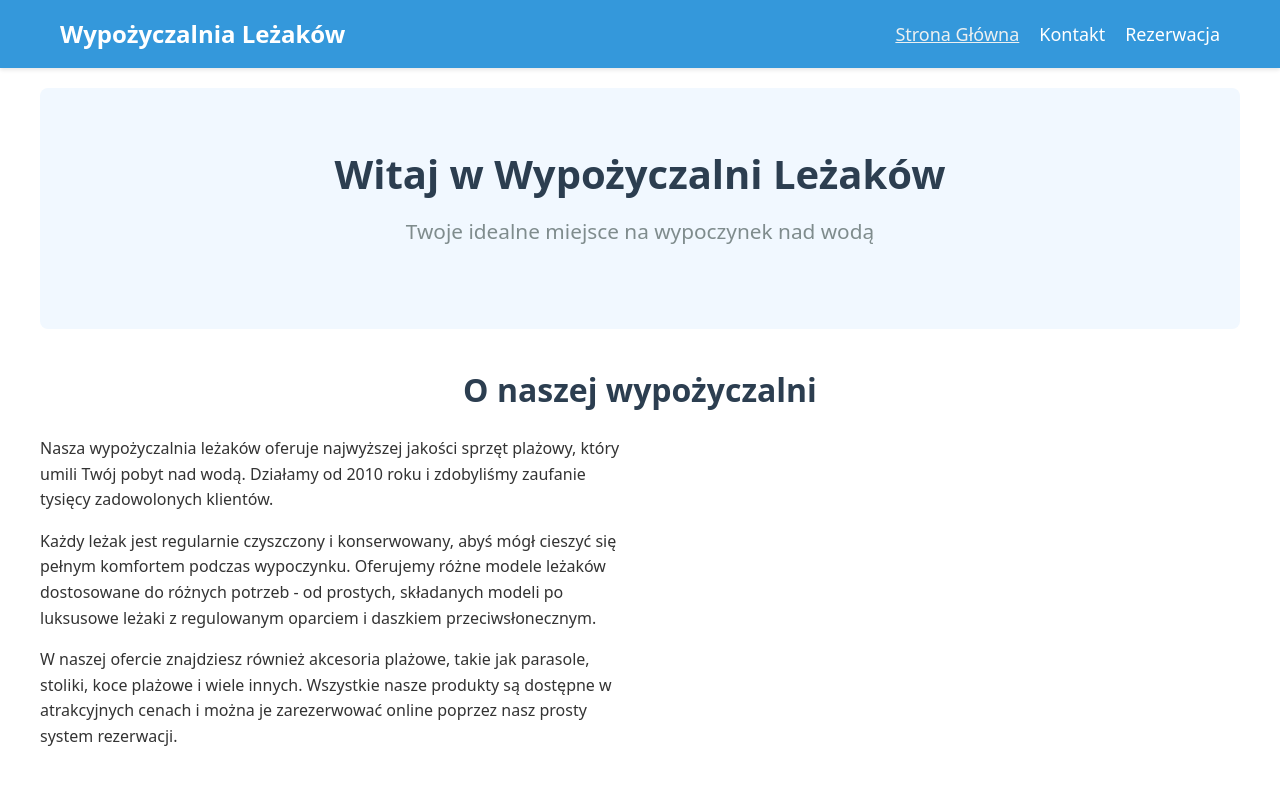
it: Navigation › should navigate to reservation page from menu
Note: Załóżmy, że masz link z tekstem "Rezerwacje"
Click the link with test id "nav-reservation" at (1173, 34), box [1125,22,1220,46]
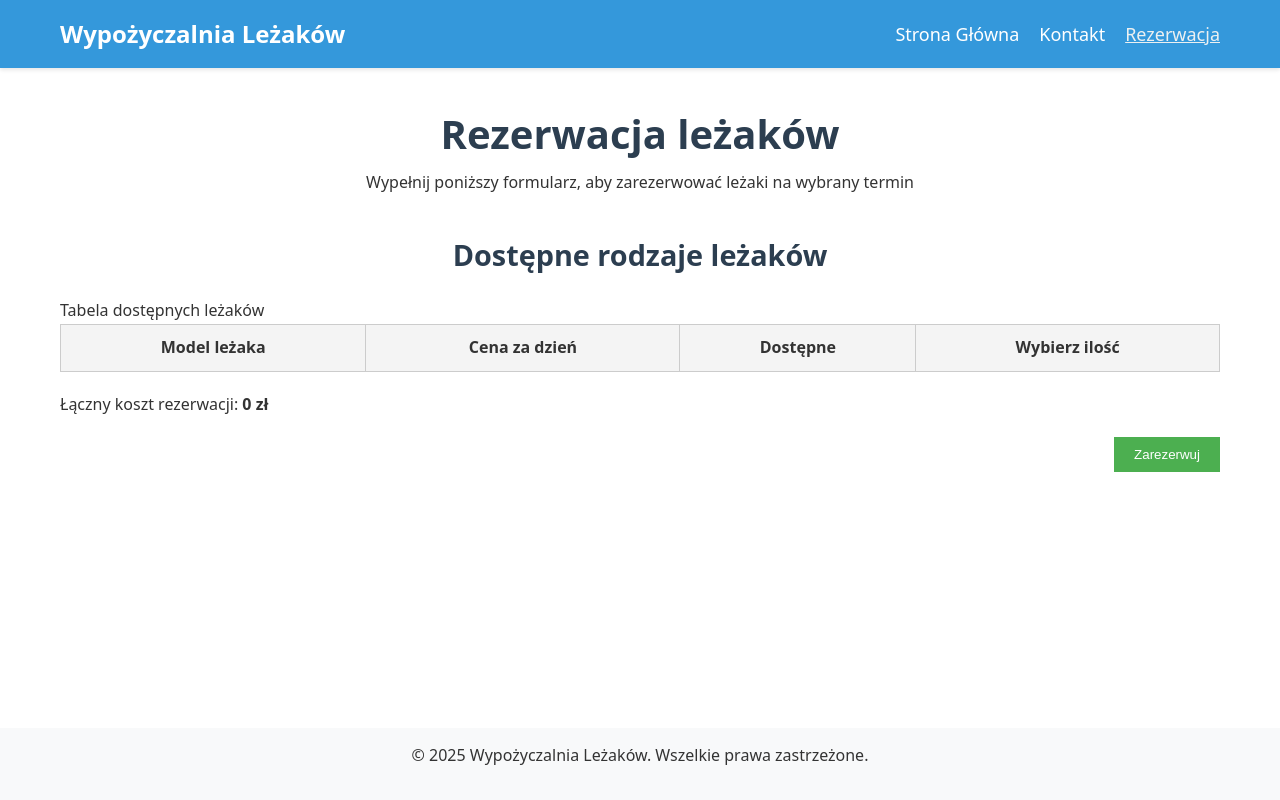
Check: the heading "Rezerwacja leżaków" is shown, box [441,106,839,161]
